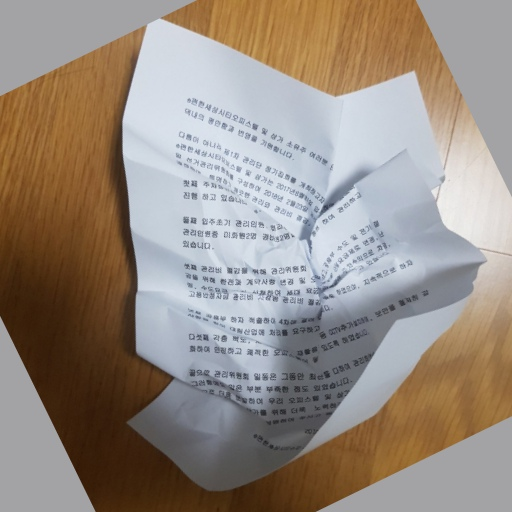Paper_3: (112, 10, 501, 507)
